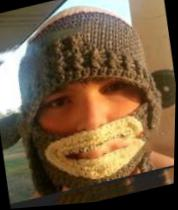WRONG: (23, 37, 161, 193)
